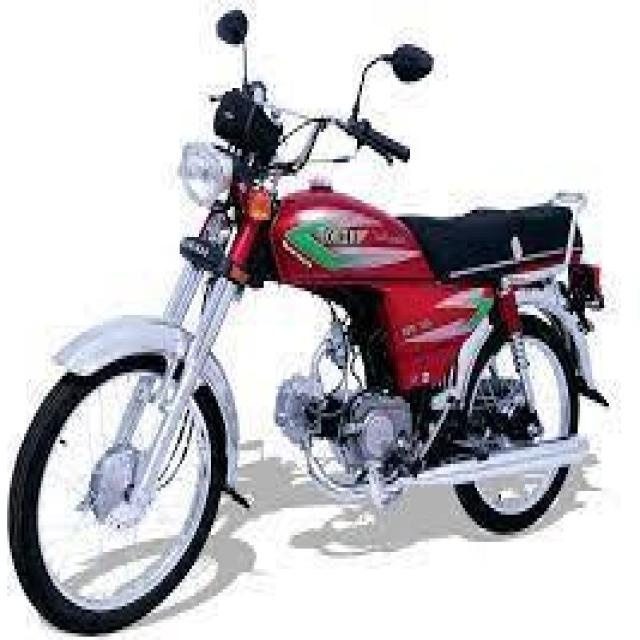motorcycle: (10, 2, 616, 628)
